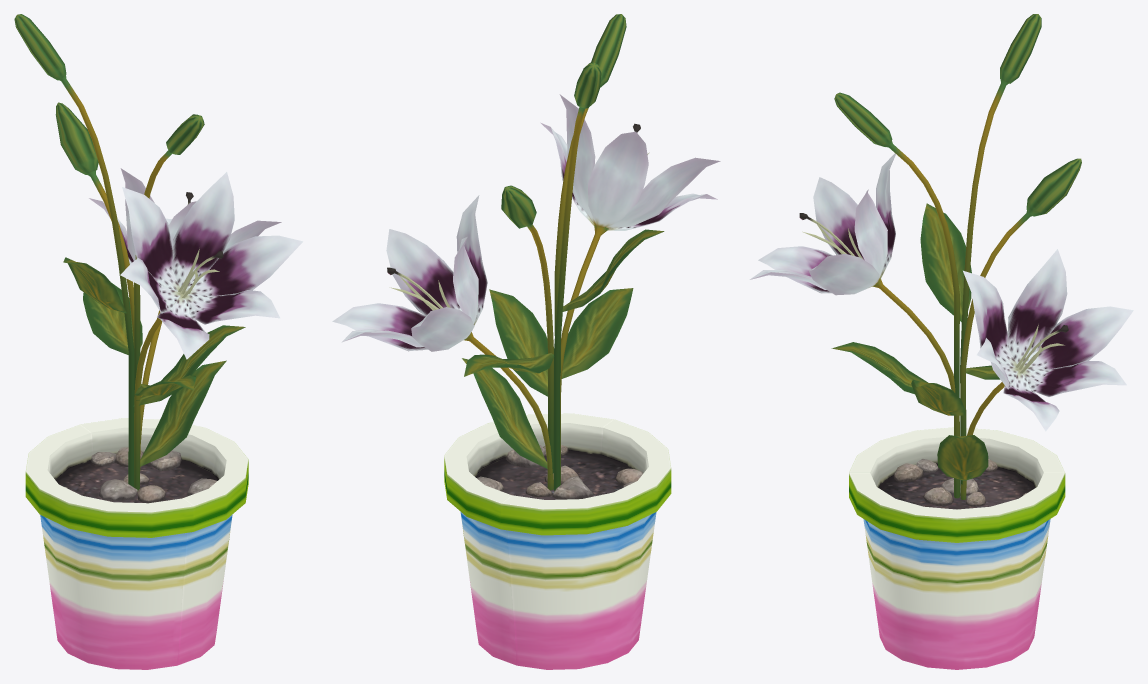
The model's file is lily.glb.
The picture shows the model from 3 angles, left to right: view 1: azimuth 30°, elevation 25°; view 2: azimuth 150°, elevation 25°; view 3: azimuth 270°, elevation 25°; orthographic projection. The views are drawn at different scales.
Parts seen in each view (by area): view 1: Lily_Pot; view 2: Lily_Pot; view 3: Lily_Pot.
Boxes of the visible parts, left/top/right/bottom form: Lily_Pot: left=14, top=14, right=302, bottom=669; Lily_Pot: left=332, top=14, right=720, bottom=669; Lily_Pot: left=749, top=14, right=1133, bottom=669.
Bounding box in the file's own units: 3.14 × 6.71 × 3.99.
Materials: 1 (1 with a texture image).
